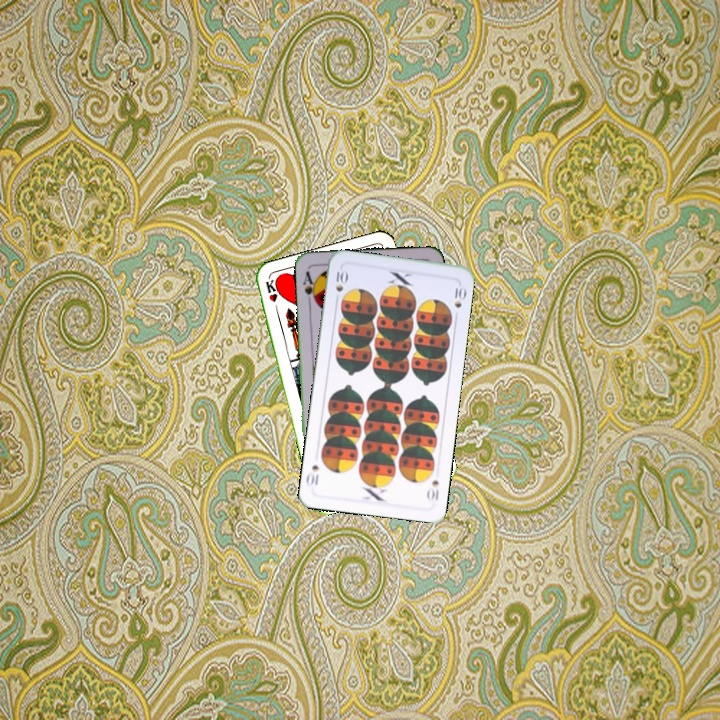HK: (261, 276, 281, 317)
S10: (331, 264, 349, 295), (423, 476, 441, 503)
SA: (299, 267, 319, 306)
